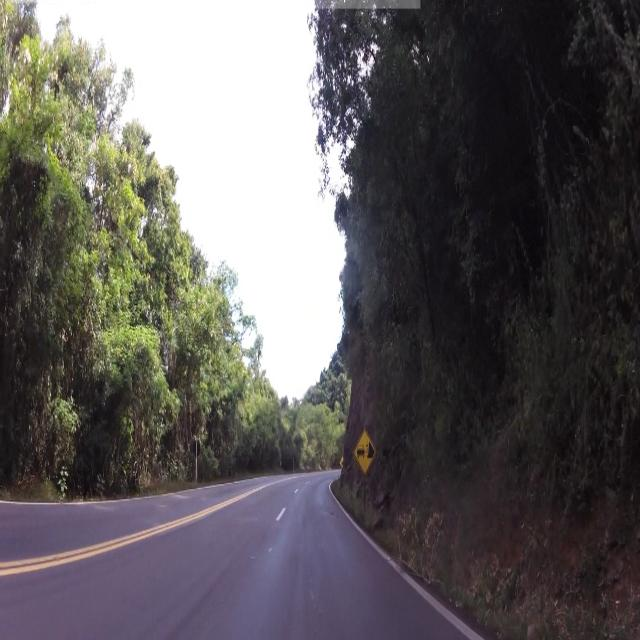A-27: (350, 423, 380, 478)
